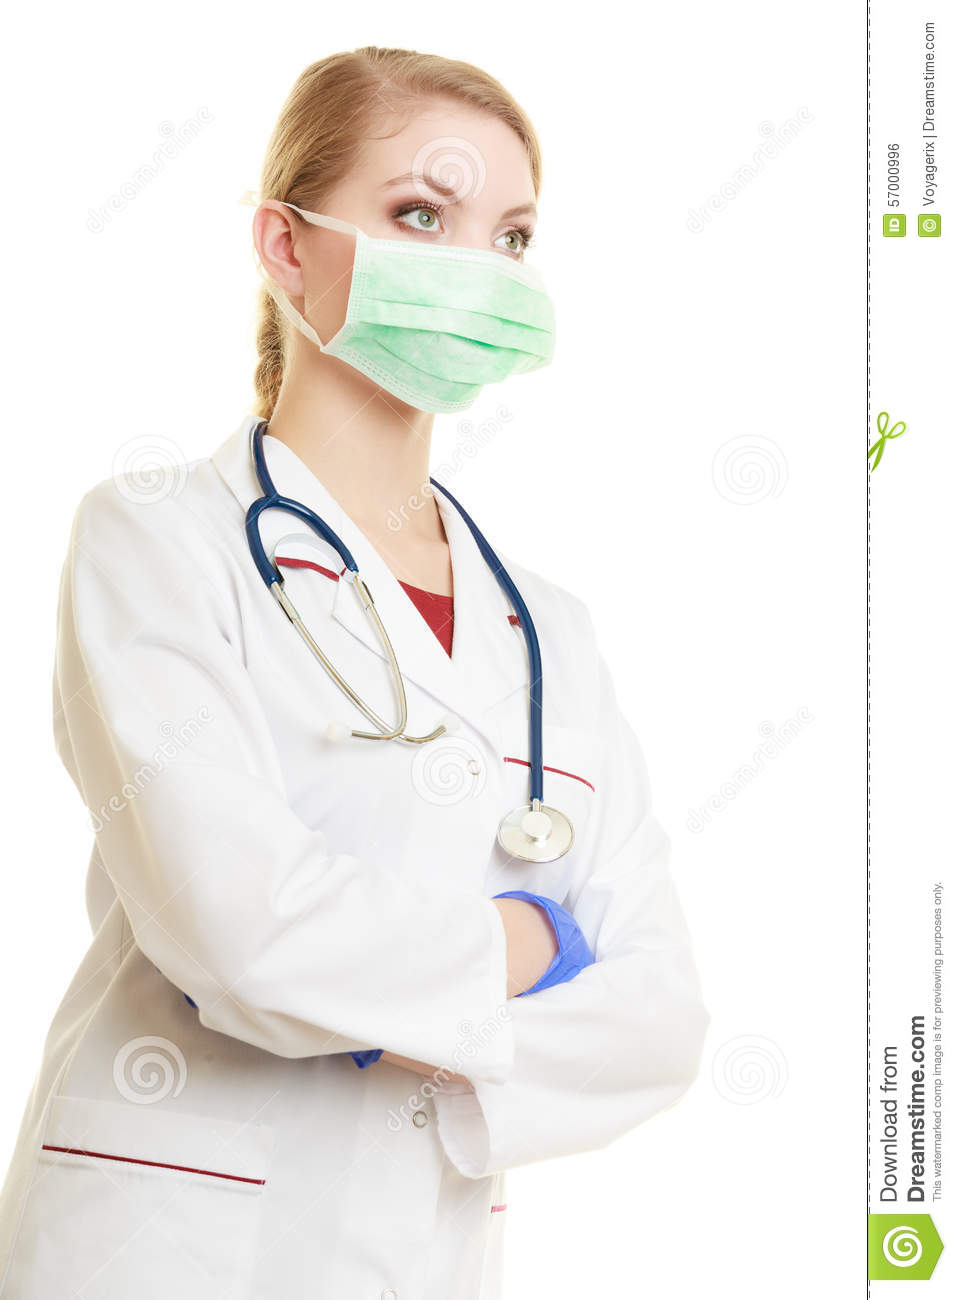mask: (320, 235, 582, 423)
